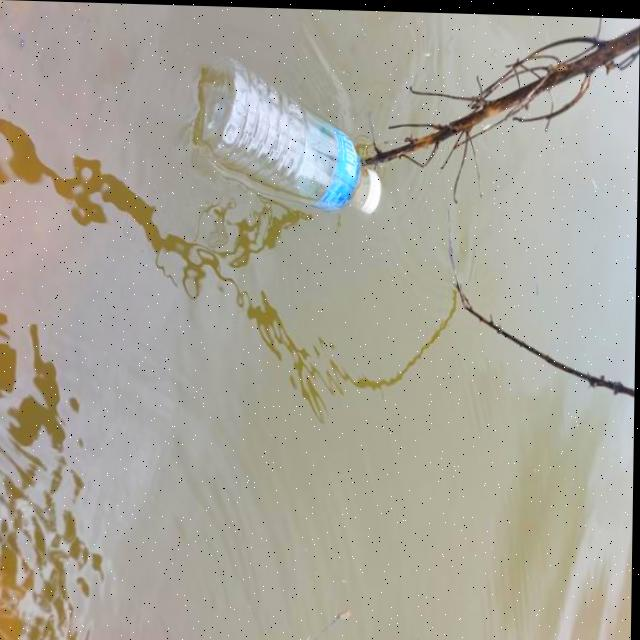waterbottle: (168, 55, 409, 217)
